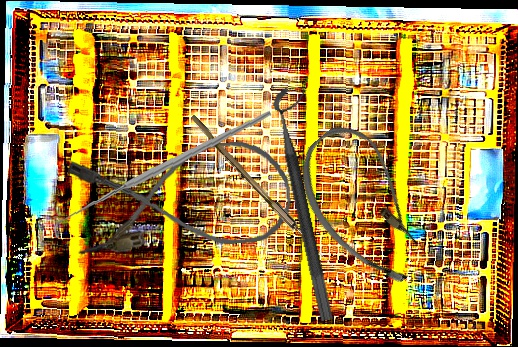Cannula: (277, 112, 455, 299), (67, 137, 294, 258)
Fixation Ring: (270, 84, 353, 322)
Hook Surgical: (52, 99, 274, 249)
Surgical Spoon: (186, 114, 338, 270)
